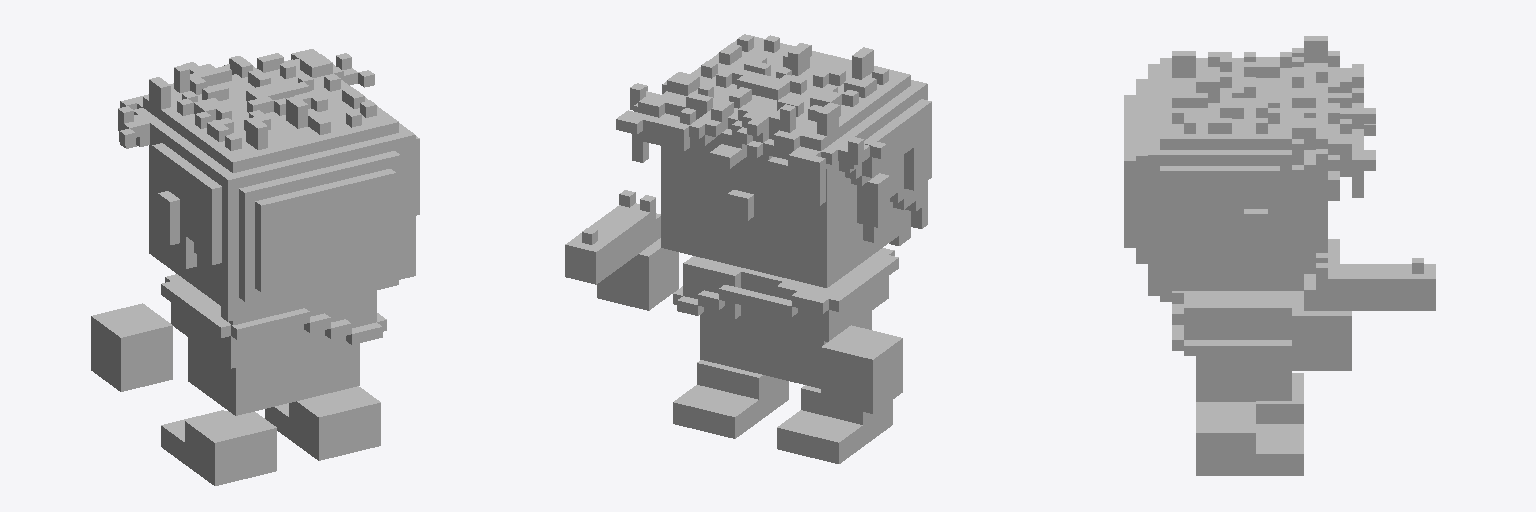
Rendered from Mi personaje.obj.
The picture shows the model from 3 angles: view 1: azimuth 30°, elevation 25°; view 2: azimuth 150°, elevation 25°; view 3: azimuth 270°, elevation 25°; orthographic projection.
Visible parts, largest first — view 1: object 1; view 2: object 1; view 3: object 1.
Part boxes in pixels (x1,y1,x2,y2): object 1: (91, 49, 419, 485); object 1: (565, 34, 931, 463); object 1: (1124, 36, 1435, 475).
Size of the model in its own units: 2.6 by 3.3 by 2.6.